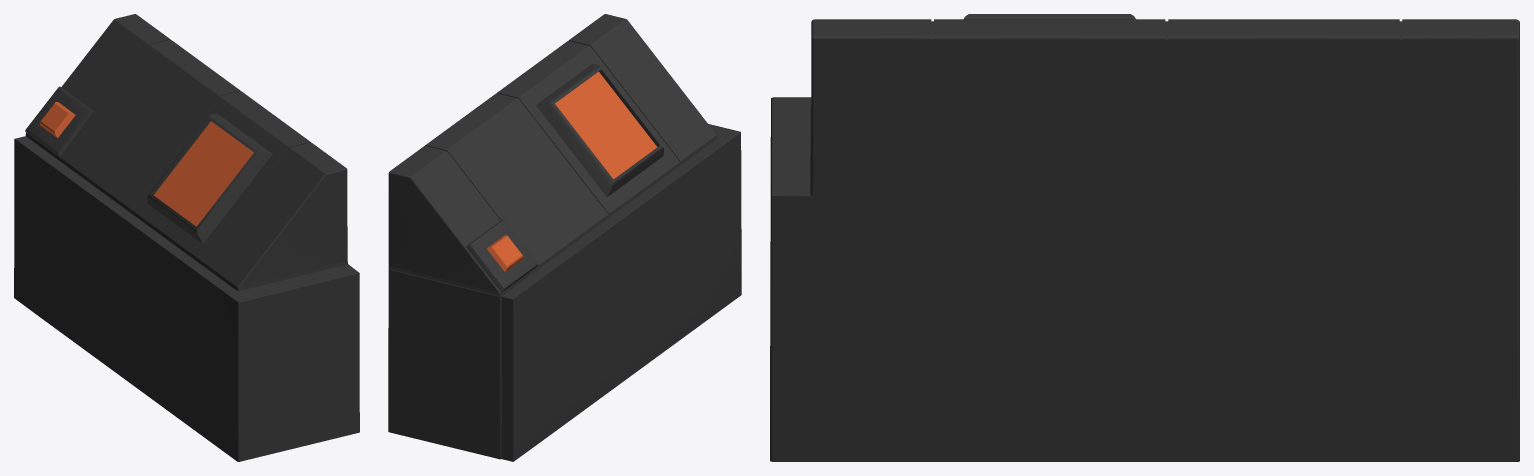
The model's file is SM_Noodle_Top.FBX.
3 views of the same model, side by side, from view 1: azimuth 30°, elevation 25°; view 2: azimuth 150°, elevation 25°; view 3: azimuth 270°, elevation 25° (orthographic). The views are drawn at different scales.
Parts seen in each view (by area): view 1: SM_Noodle_Top; view 2: SM_Noodle_Top; view 3: SM_Noodle_Top.
Boxes of the visible parts, x1,y1,x2,y2 form: SM_Noodle_Top: (14,14,359,461); SM_Noodle_Top: (388,14,741,461); SM_Noodle_Top: (770,14,1519,461).
Size of the model in its own units: 221 by 703 by 440.
